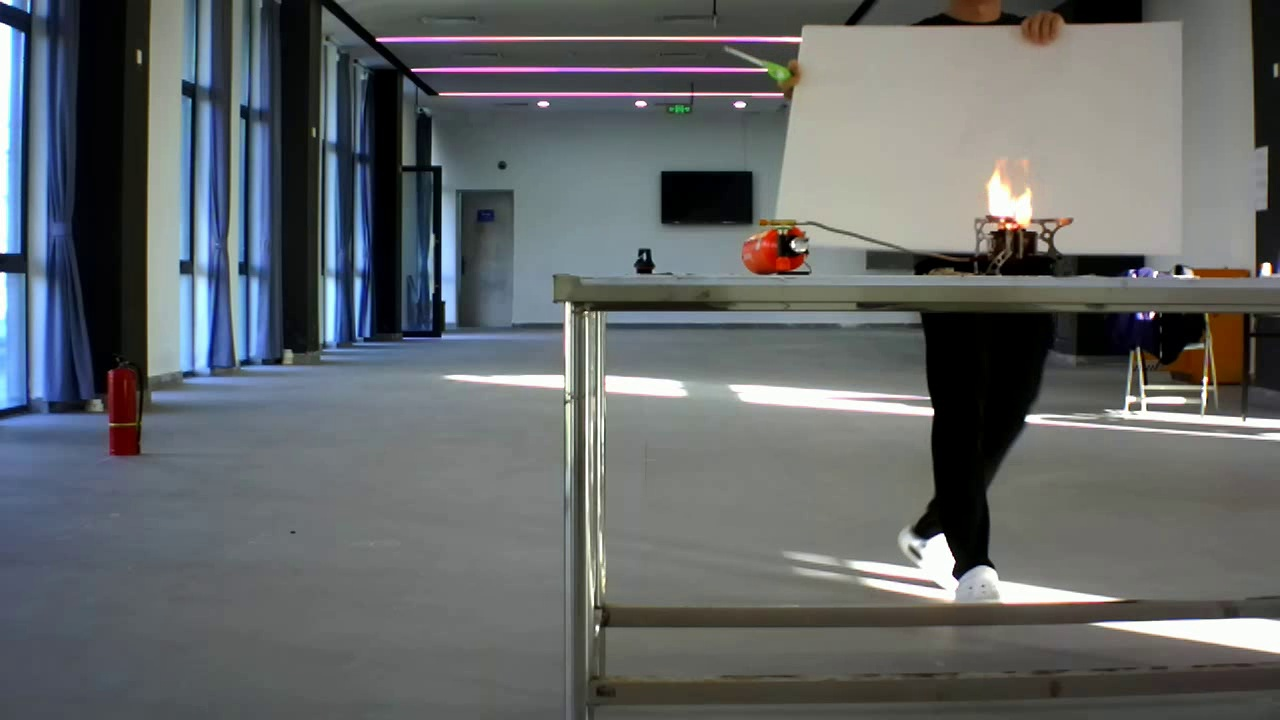Fire: (971, 152, 1077, 237)
